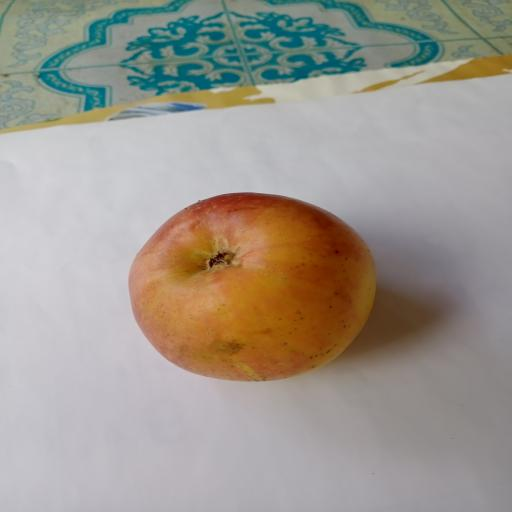apple-ripe: (111, 184, 385, 395)
